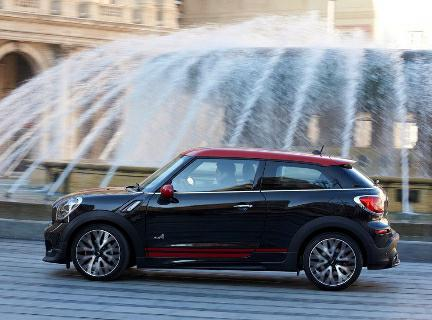MINI-JCWPACEMAN: (30, 145, 412, 292)
